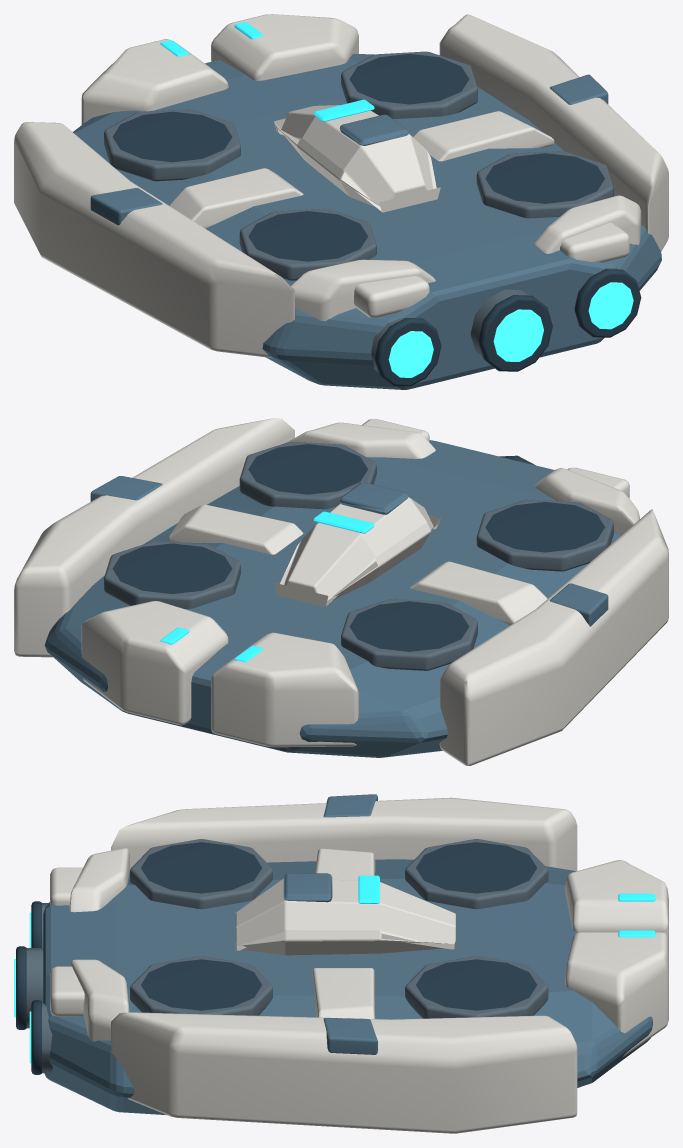
The model's file is battleship.glb.
3 renders of one model, top to bottom at view 1: azimuth 30°, elevation 25°; view 2: azimuth 150°, elevation 25°; view 3: azimuth 270°, elevation 25°, orthographic.
Visible parts, largest first — view 1: HullArmor, Engine02Mesh, Engine01Mesh, Engine03Mesh; view 2: HullArmor; view 3: HullArmor, Engine02Mesh, Engine03Mesh, Engine01Mesh.
Boxes of the visible parts, bbox=[...] form: HullArmor: bbox=[14, 14, 668, 389]; Engine02Mesh: bbox=[470, 289, 552, 371]; Engine01Mesh: bbox=[371, 317, 441, 386]; Engine03Mesh: bbox=[574, 267, 641, 337]; HullArmor: bbox=[14, 418, 668, 765]; HullArmor: bbox=[43, 794, 668, 1133]; Engine02Mesh: bbox=[14, 946, 43, 1029]; Engine03Mesh: bbox=[29, 1000, 52, 1074]; Engine01Mesh: bbox=[29, 901, 48, 947].
Bounding box in the file's own units: 5.92 × 1.67 × 6.33.
